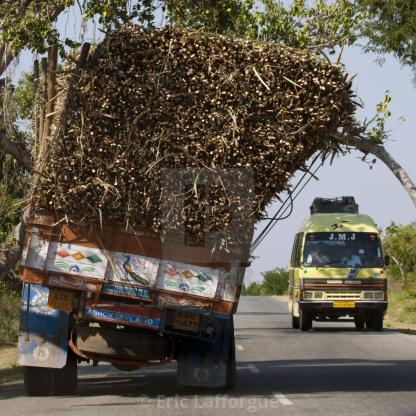overloaded-truck: (36, 21, 300, 386), (264, 331, 276, 337)
